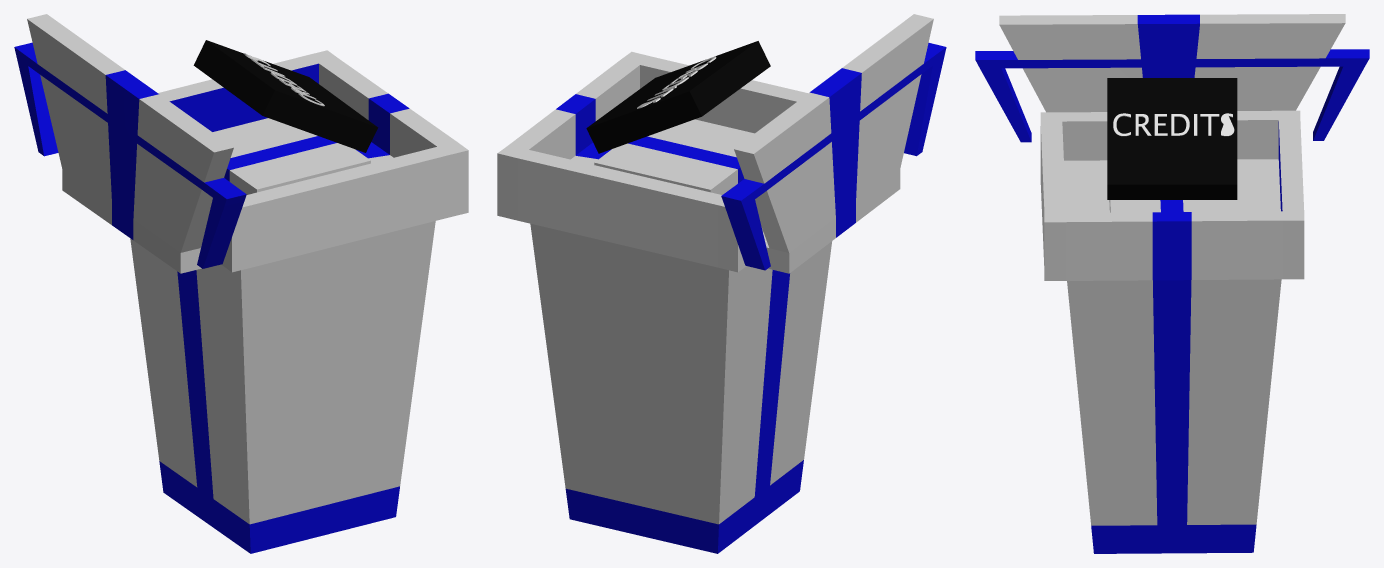
The model's file is CreditsTerminal.fbx.
3 views of the same model, side by side, from view 1: azimuth 30°, elevation 25°; view 2: azimuth 150°, elevation 25°; view 3: azimuth 270°, elevation 25° (orthographic). The views are drawn at different scales.
Visible parts, largest first — view 1: TerminalBase, Button; view 2: TerminalBase, Button; view 3: TerminalBase, Button, StartText.
Part boxes in pixels (bbox=[...]): TerminalBase: bbox=[14, 14, 468, 553]; Button: bbox=[193, 40, 378, 152]; TerminalBase: bbox=[497, 14, 946, 553]; Button: bbox=[586, 41, 770, 153]; TerminalBase: bbox=[975, 14, 1369, 553]; Button: bbox=[1107, 78, 1237, 199]; StartText: bbox=[1113, 113, 1234, 136].
Size of the model in its own units: 1.42 by 2.2 by 1.82.
